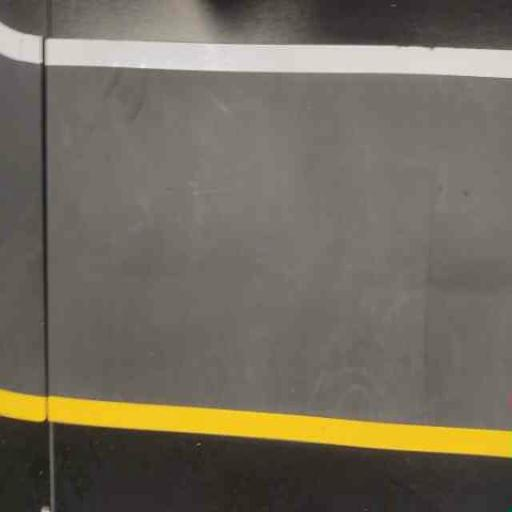straight: (47, 15, 512, 473)
